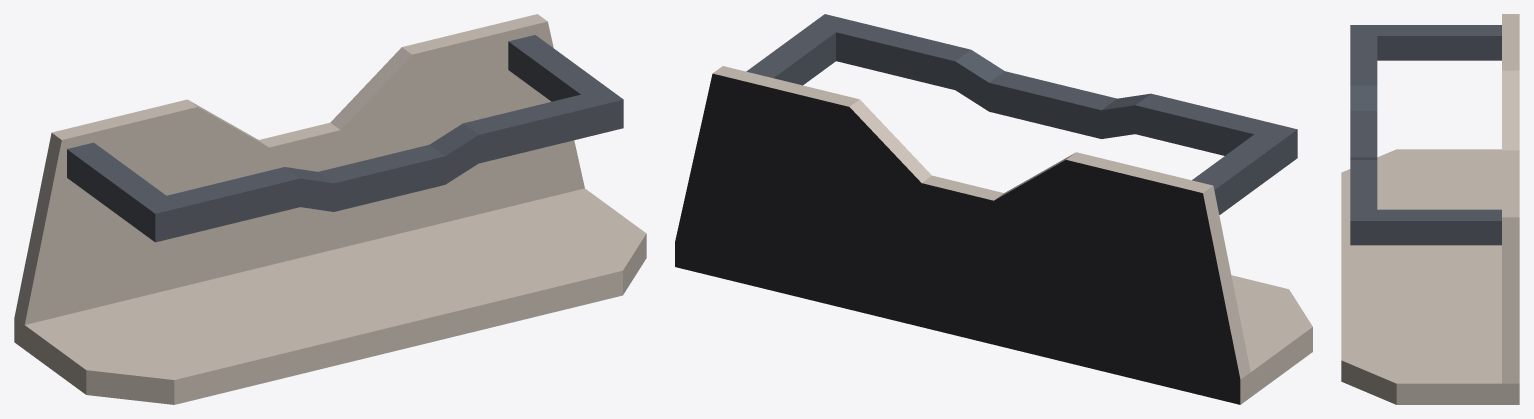
File: SM_Seasoning_Stand.glb
3 renders of one model, left to right at view 1: azimuth 30°, elevation 25°; view 2: azimuth 150°, elevation 25°; view 3: azimuth 270°, elevation 25°, orthographic. The views are drawn at different scales.
Parts seen in each view (by area): view 1: SM_Seasoning_Stand; view 2: SM_Seasoning_Stand; view 3: SM_Seasoning_Stand.
Boxes of the visible parts, bbox=[...] form: SM_Seasoning_Stand: bbox=[14, 14, 646, 404]; SM_Seasoning_Stand: bbox=[675, 14, 1312, 404]; SM_Seasoning_Stand: bbox=[1341, 14, 1519, 404].
Bounding box in the file's own units: 0.2088 × 0.0715 × 0.0672.
1 material, 1 textured.
